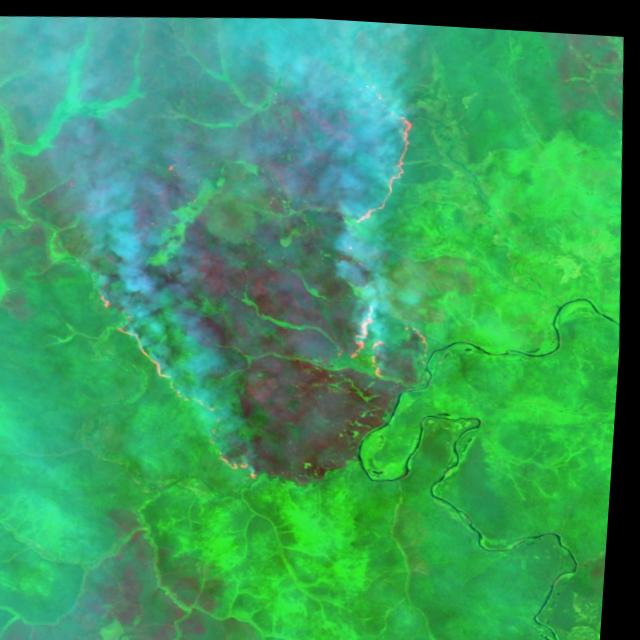fire: (313, 63, 457, 396), (83, 281, 275, 488)
